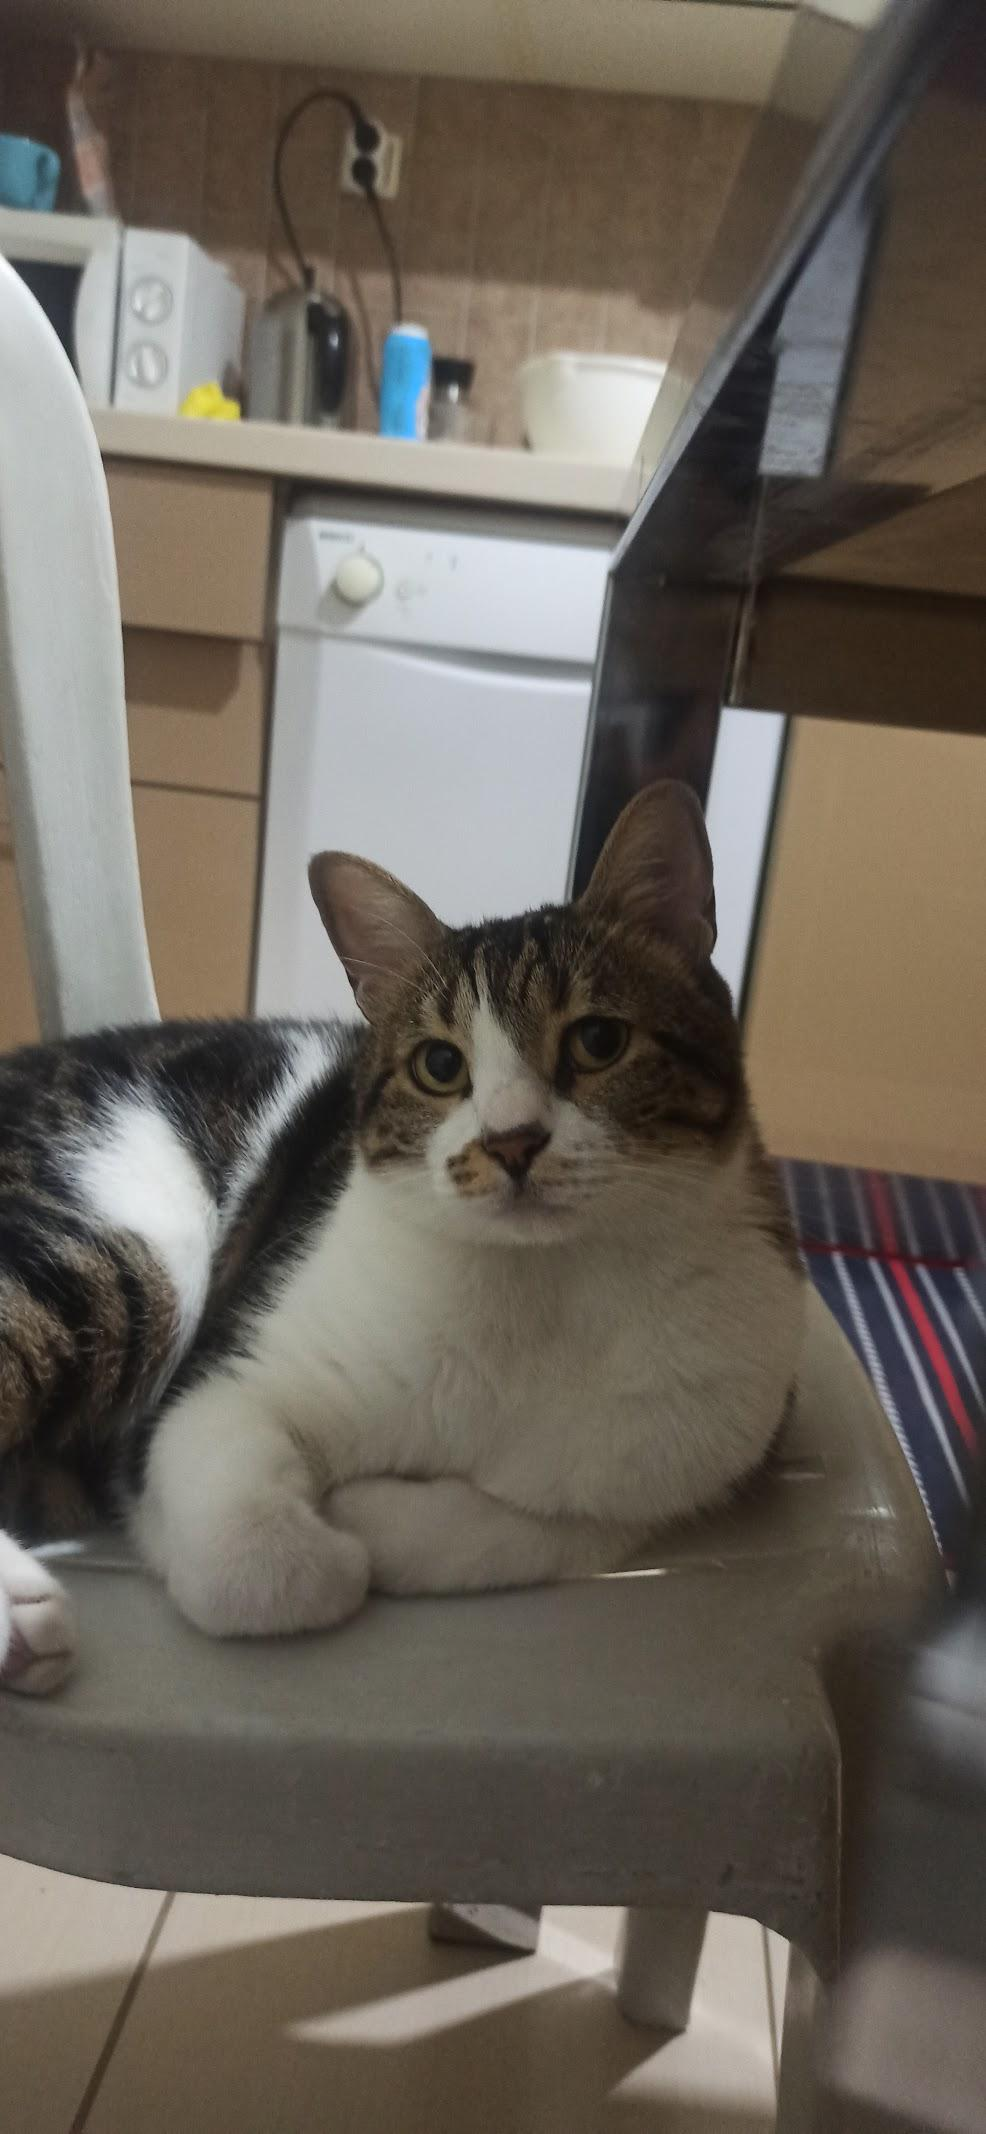kedo: (18, 778, 804, 1628)
